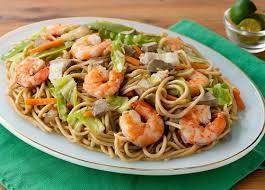pancit bihon: (11, 25, 246, 152)
